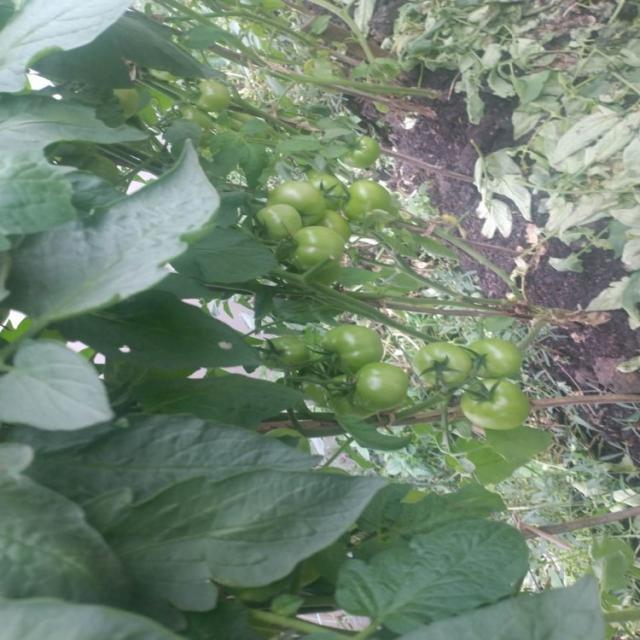tomato: (324, 313, 394, 381), (465, 365, 523, 440), (283, 229, 357, 284), (414, 340, 480, 390), (351, 179, 422, 225), (348, 367, 416, 415), (260, 326, 315, 381), (317, 167, 370, 221), (469, 326, 525, 375), (274, 176, 329, 223), (190, 68, 243, 112), (254, 205, 298, 241), (343, 132, 377, 169), (114, 75, 141, 115)
